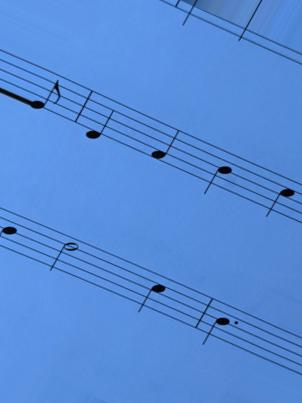note: (84, 80, 116, 149), (200, 134, 232, 199), (199, 288, 232, 351), (134, 259, 166, 322), (264, 162, 296, 223), (151, 108, 179, 172)
